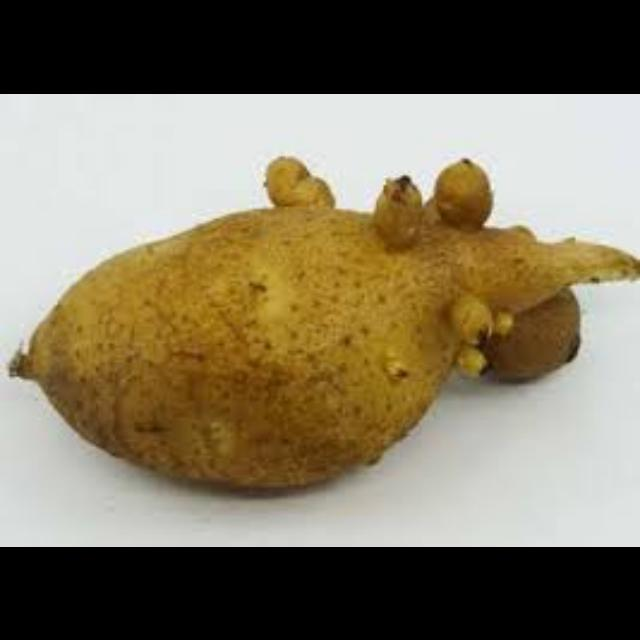Sprouted potato: (8, 122, 632, 510)
